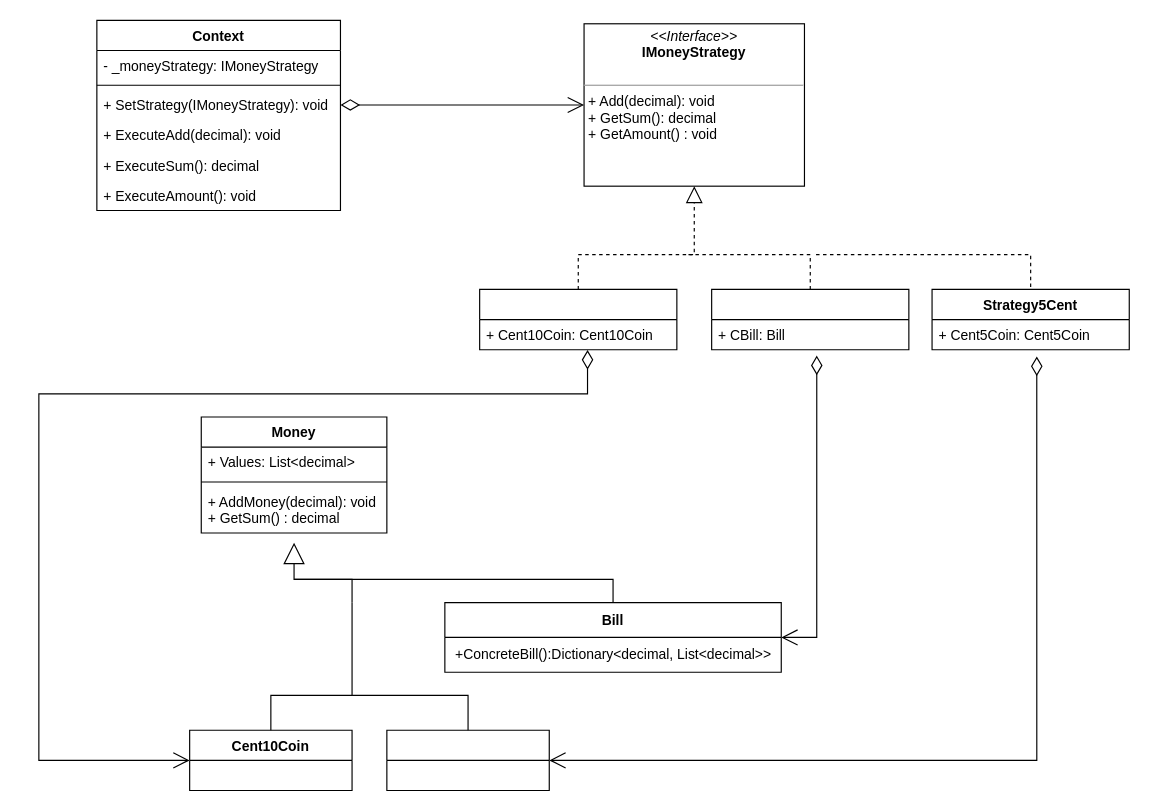
This 1150x811 diagram has some shape labels left out. Each missing label, with the box of its shape:
Cent5Coin: (386, 729, 549, 791)
Strategy10Cent: (478, 288, 677, 350)
StrategyBill: (710, 288, 909, 350)
